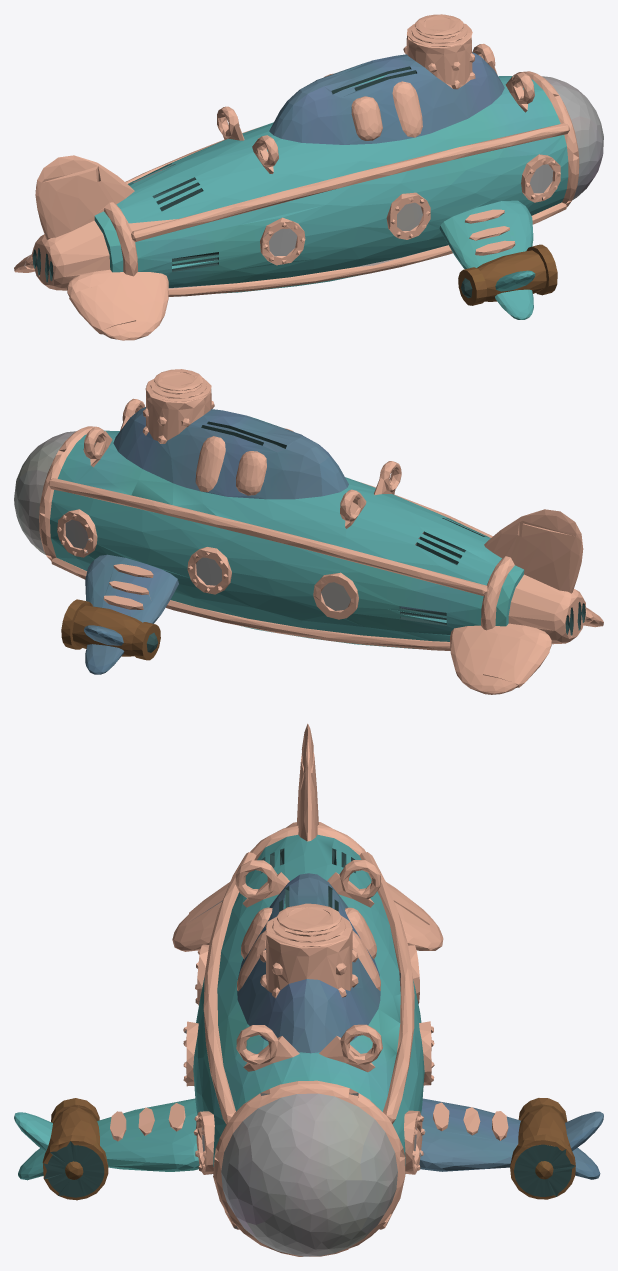
The model's file is ARIsubProp.glb.
3 views of the same model, one above another, from view 1: azimuth 30°, elevation 25°; view 2: azimuth 150°, elevation 25°; view 3: azimuth 270°, elevation 25° (orthographic). The views are drawn at different scales.
Visible parts, largest first — view 1: submarine; view 2: submarine; view 3: submarine.
Part boxes in pixels (bbox=[...]): submarine: bbox=[14, 14, 603, 340]; submarine: bbox=[14, 369, 603, 694]; submarine: bbox=[14, 723, 603, 1256].
Size of the model in its own units: 151 by 57.29 by 104.
1 material, 1 textured.
